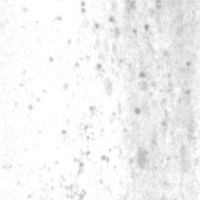pitted_surface: (34, 3, 190, 176)
